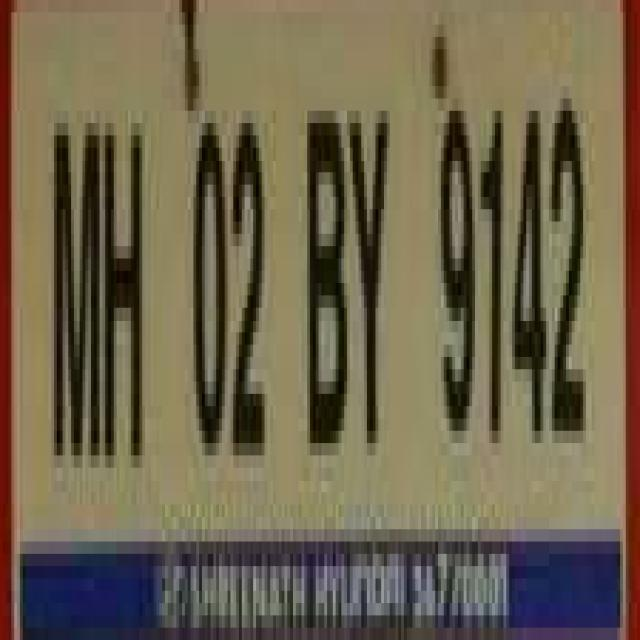license_plate: (0, 12, 617, 616)
